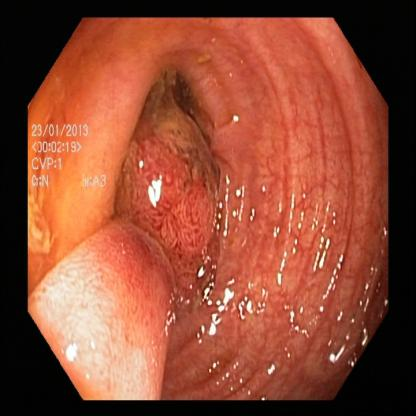Labels: (28, 121, 116, 197)
Polyps: (59, 244, 171, 394), (137, 105, 216, 250)
